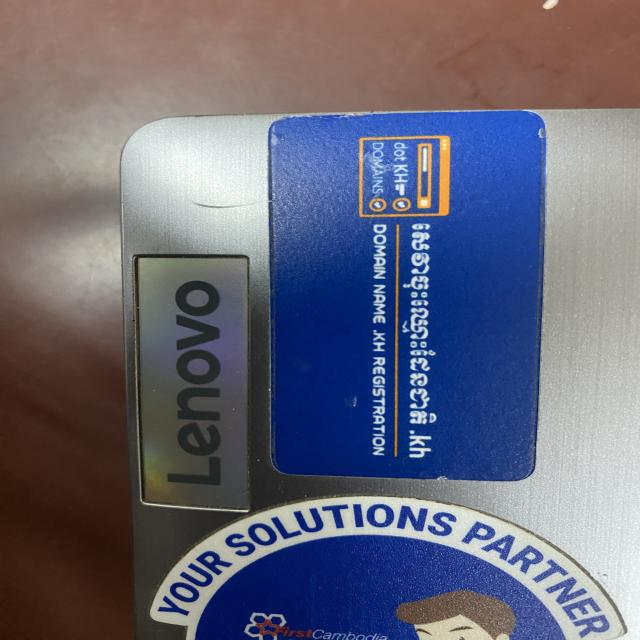Yolov11kh: (398, 221, 437, 430)
